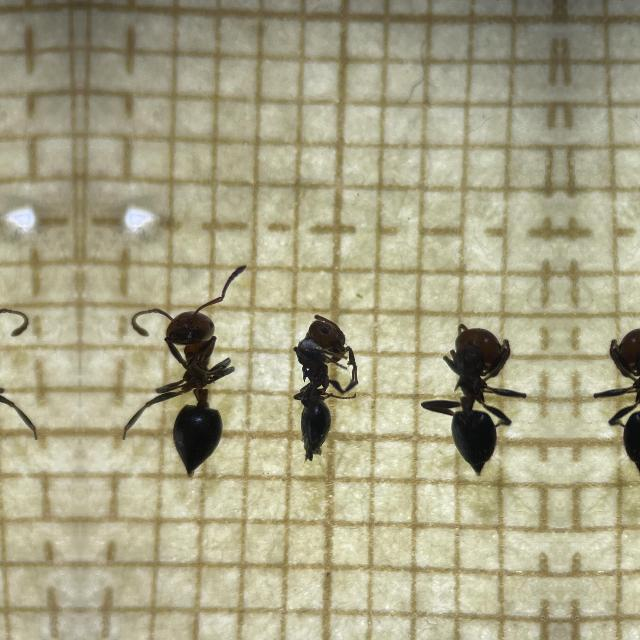Crematogaster: (140, 288, 244, 480), (418, 311, 516, 495), (293, 304, 353, 454), (604, 311, 640, 495)
